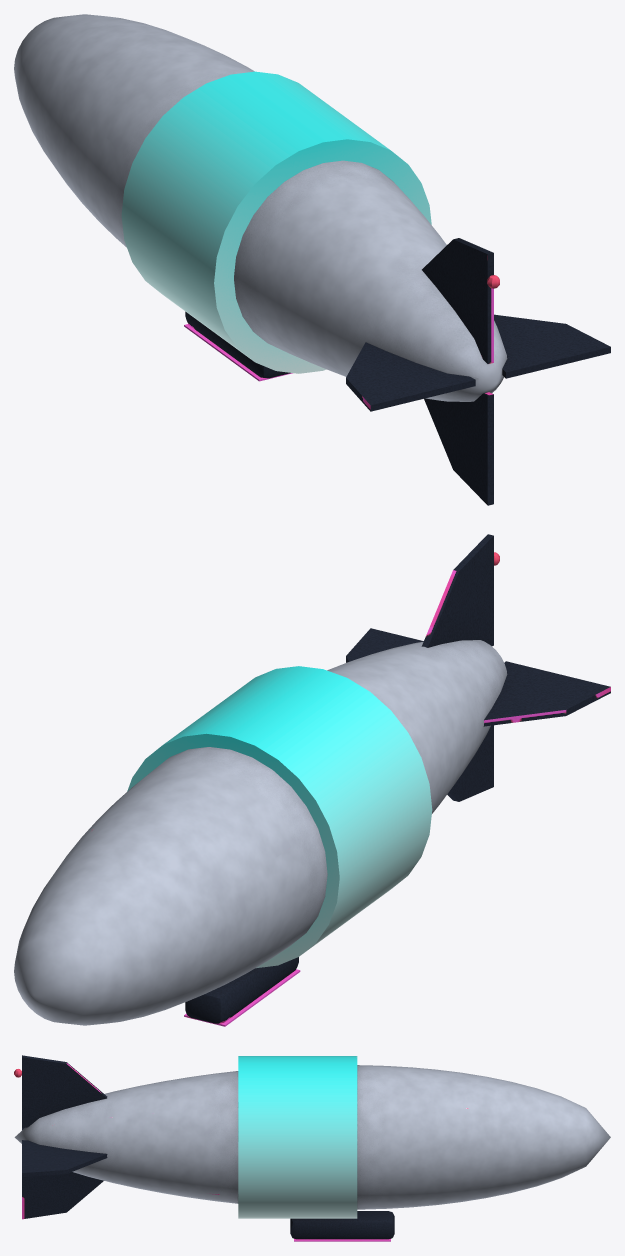
The model's file is blimp.fbx.
3 renders of one model, top to bottom at view 1: azimuth 30°, elevation 25°; view 2: azimuth 150°, elevation 25°; view 3: azimuth 270°, elevation 25°, orthographic. The views are drawn at different scales.
Parts seen in each view (by area): view 1: blimp; view 2: blimp; view 3: blimp, blimp_glow.
Boxes of the visible parts, <box> form: blimp: <box>14,14,610,505</box>; blimp: <box>14,534,610,1025</box>; blimp: <box>14,1055,610,1239</box>; blimp_glow: <box>294,1238,390,1241</box>.
Bounding box in the file's own units: 2400 × 2650 × 8007.
1 material, 1 textured.
